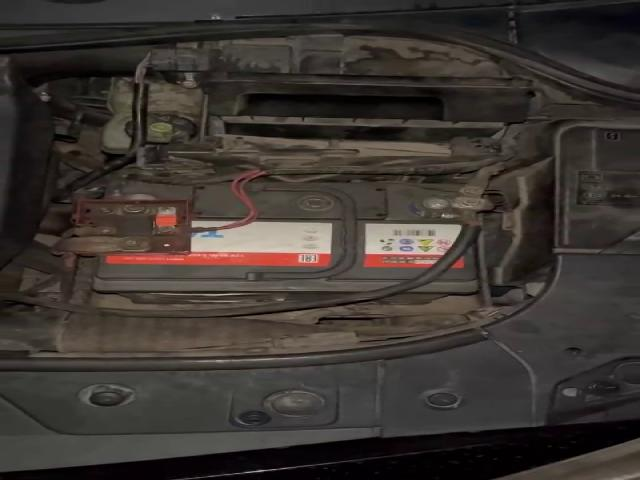accumulator: (53, 175, 494, 305)
fuse_box: (553, 121, 638, 255)
